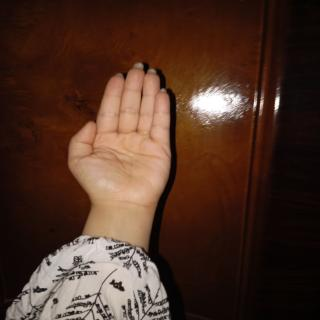SEEN: (62, 55, 176, 232)
